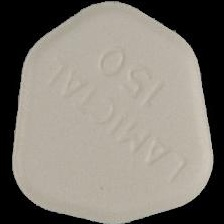0173-0643: (0, 0, 224, 224)
